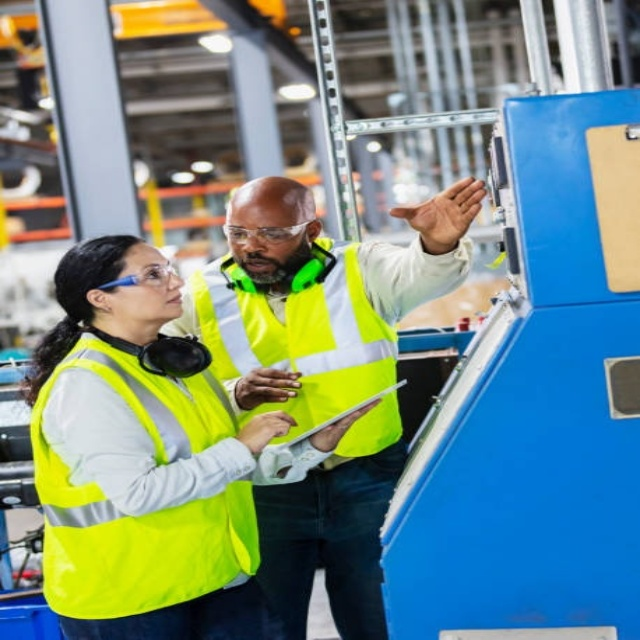Gafas: (99, 260, 182, 292), (222, 218, 317, 245)
Sin_guantes: (387, 173, 493, 244), (306, 397, 386, 453), (238, 363, 307, 406), (240, 409, 296, 452)
Sin_mascara: (155, 290, 186, 317), (236, 254, 271, 275)
